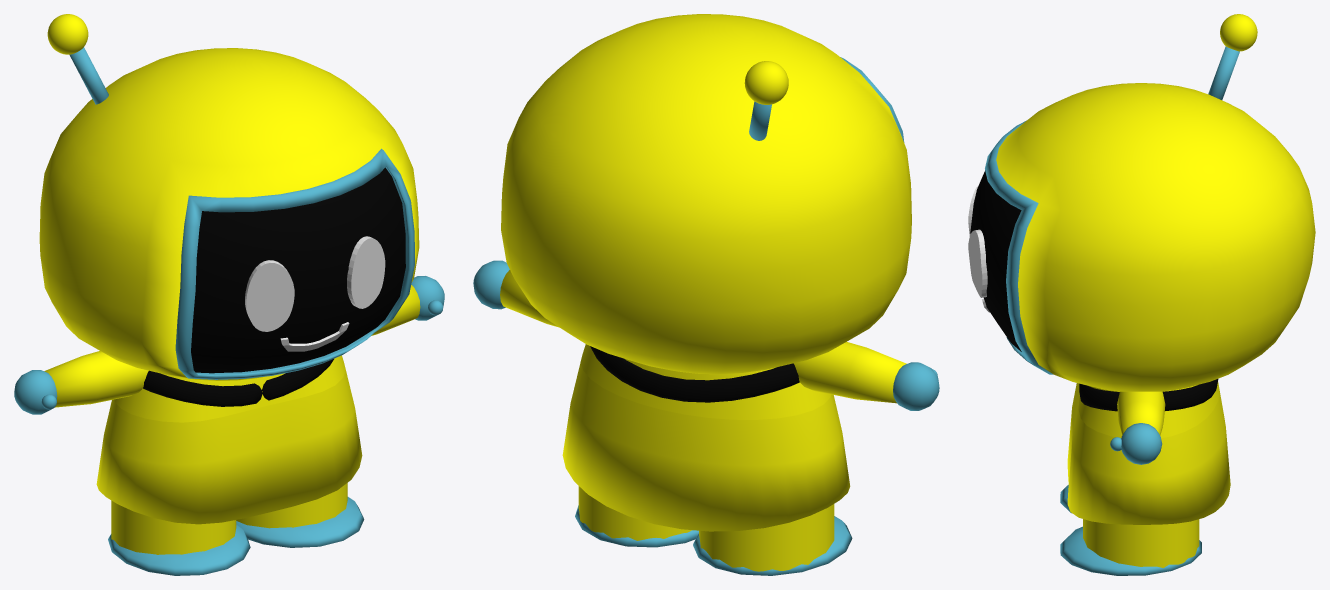
Rendered from 3D_modeling_yellow.fbx.
3 renders of one model, left to right at view 1: azimuth 30°, elevation 25°; view 2: azimuth 150°, elevation 25°; view 3: azimuth 270°, elevation 25°, orthographic. The views are drawn at different scales.
Parts seen in each view (by area): view 1: head, body, degital_face, degital_face_frame, leg, foot, eye, arm, color, hand, antenna, mouth; view 2: head, body, leg, arm, color, hand, foot, antenna; view 3: head, body, leg, degital_face, degital_face_frame, foot, antenna, color, arm, hand, eye.
Part boxes in pixels (x1,y1,x2,y2): head: [39, 48, 419, 380]; body: [96, 355, 362, 524]; degital_face: [191, 167, 405, 373]; degital_face_frame: [175, 148, 414, 379]; leg: [111, 483, 347, 554]; foot: [108, 497, 364, 575]; eye: [245, 236, 385, 331]; arm: [44, 285, 420, 407]; color: [143, 359, 333, 406]; hand: [14, 276, 444, 414]; antenna: [47, 14, 108, 104]; mouth: [280, 322, 349, 351]; head: [501, 14, 911, 374]; body: [562, 344, 850, 531]; leg: [578, 486, 834, 571]; arm: [500, 270, 906, 403]; color: [590, 346, 799, 402]; hand: [473, 260, 939, 410]; foot: [575, 505, 852, 575]; antenna: [744, 61, 788, 140]; head: [996, 83, 1315, 391]; body: [1067, 382, 1230, 524]; leg: [1083, 519, 1199, 567]; degital_face: [970, 170, 1021, 351]; degital_face_frame: [985, 120, 1053, 374]; foot: [1060, 485, 1201, 575]; antenna: [1208, 14, 1257, 99]; color: [1079, 379, 1218, 411]; arm: [1117, 391, 1165, 435]; hand: [1110, 423, 1162, 464]; eye: [968, 186, 987, 297].
Bounding box in the file's own units: 415 × 464 × 318.
